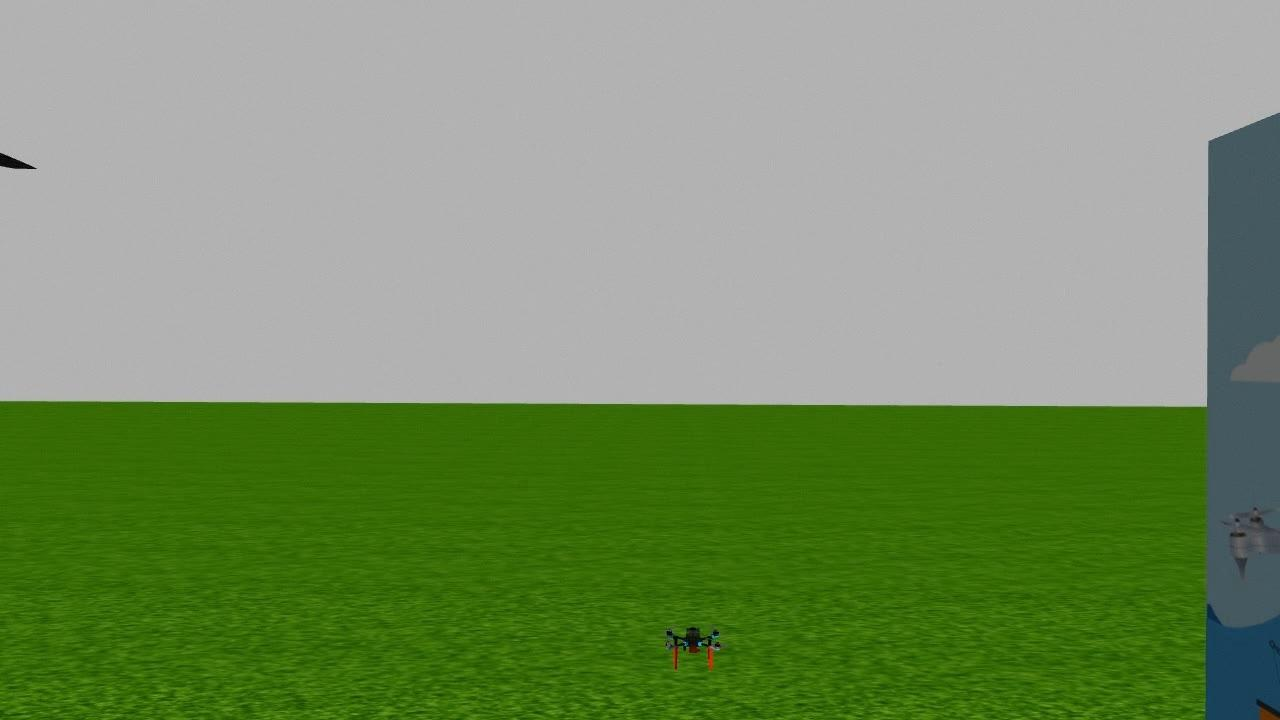UAV: (648, 616, 738, 676)
